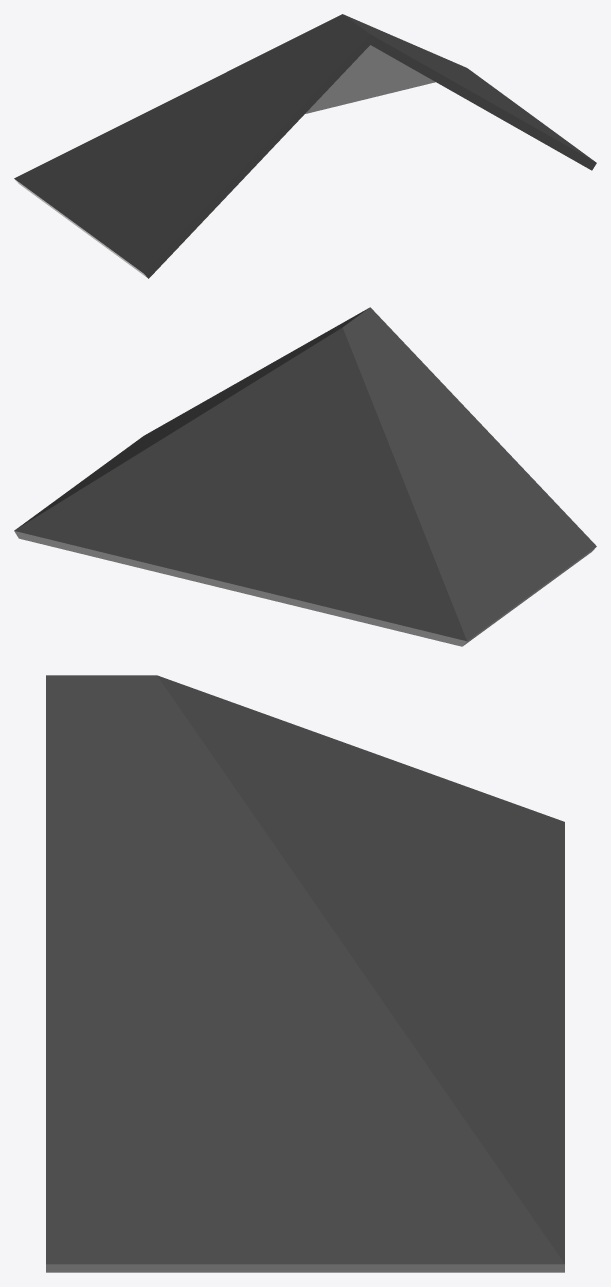
Rendered from Roof1_C3_02.fbx.
The picture shows the model from 3 angles, top to bottom: view 1: azimuth 30°, elevation 25°; view 2: azimuth 150°, elevation 25°; view 3: azimuth 270°, elevation 25°; orthographic projection. The views are drawn at different scales.
Visible parts, largest first — view 1: Roof1_C3_02; view 2: Roof1_C3_02; view 3: Roof1_C3_02.
Boxes of the visible parts, x1,y1,x2,y2 form: Roof1_C3_02: (14, 14, 596, 278); Roof1_C3_02: (14, 307, 596, 646); Roof1_C3_02: (46, 675, 564, 1272).
Bounding box in the file's own units: 565 × 227 × 280.
